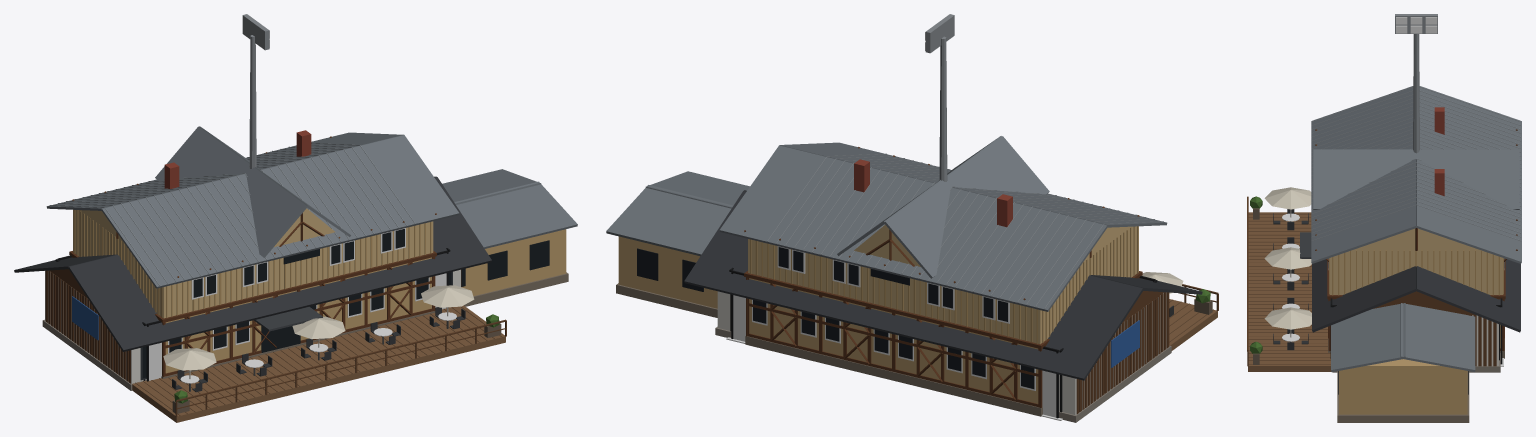
Rendered from tsg.glb.
The picture shows the model from 3 angles, left to right: view 1: azimuth 30°, elevation 25°; view 2: azimuth 150°, elevation 25°; view 3: azimuth 270°, elevation 25°; orthographic projection. The views are drawn at different scales.
Visible parts, largest first — view 1: bahnhof, vereinsheim, flutlicht, padel, padel_glas; view 2: bahnhof, vereinsheim, flutlicht, padel, padel_glas; view 3: bahnhof, vereinsheim, flutlicht, padel.
Boxes of the visible parts, <box> form: bahnhof: <box>46,126,577,378</box>; vereinsheim: <box>14,176,506,422</box>; flutlicht: <box>242,14,269,168</box>; padel: <box>55,248,450,381</box>; padel_glas: <box>149,273,446,380</box>; bahnhof: <box>606,136,1167,416</box>; vereinsheim: <box>684,190,1218,422</box>; flutlicht: <box>925,14,954,181</box>; padel: <box>726,267,1157,420</box>; padel_glas: <box>733,295,1056,417</box>; bahnhof: <box>1300,86,1521,422</box>; vereinsheim: <box>1247,187,1520,372</box>; flutlicht: <box>1395,14,1437,153</box>; padel: <box>1330,298,1503,366</box>.
Size of the model in its own units: 31 by 18.83 by 16.62.
